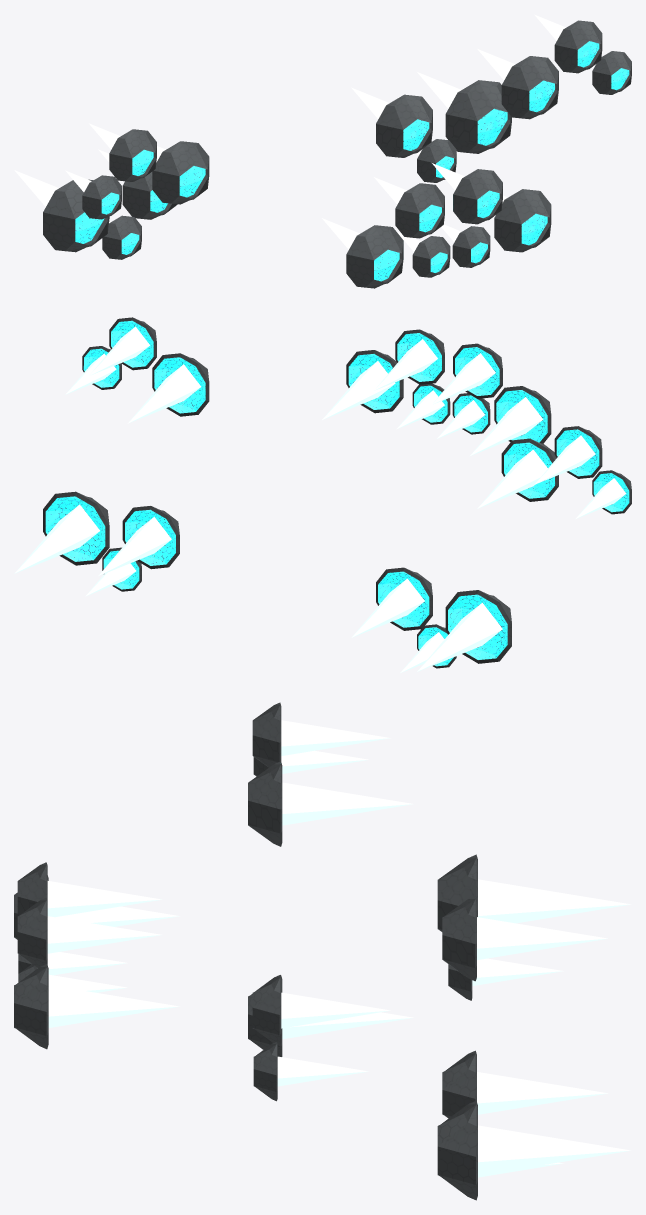
The model's file is ion-engines.fbx.
3 views of the same model, one above another, from view 1: azimuth 30°, elevation 25°; view 2: azimuth 150°, elevation 25°; view 3: azimuth 270°, elevation 25° (orthographic). The views are drawn at different scales.
Parts seen in each view (by area): view 1: EngineTier2_Ion_EngineLargeArm.002, EngineTier2_Ion_EngineLargeArm.005, EngineTier2_Ion_EngineLargeArm.007, EngineTier2_Ion_EngineLargeArm.003, EngineTier2_Ion_EngineLargeArm.006, EngineTier2_Ion_EngineLargeArm.008; view 2: EngineTier2_Ion_EngineLargeArm.002, EngineTier2_Ion_EngineLargeArm.003, EngineTier2_Ion_EngineLargeArm.007, EngineTier2_Ion_EngineLargeArm.005, EngineTier2_Ion_EngineLargeArm.006, EngineTier2_Ion_EngineLargeArm.008; view 3: EngineTier2_Ion_EngineLargeArm.003, EngineTier2_Ion_EngineLargeArm.008, EngineTier2_Ion_EngineLargeArm.006, EngineTier2_Ion_EngineLargeArm.002, EngineTier2_Ion_EngineLargeArm.007, EngineTier2_Ion_EngineLargeArm.005.
Part boxes in pixels (x1,y1,x2,y2): EngineTier2_Ion_EngineLargeArm.002: (43, 80, 511, 259); EngineTier2_Ion_EngineLargeArm.005: (346, 169, 551, 288); EngineTier2_Ion_EngineLargeArm.007: (82, 20, 631, 219); EngineTier2_Ion_EngineLargeArm.003: (14, 72, 461, 223); EngineTier2_Ion_EngineLargeArm.006: (322, 163, 507, 251); EngineTier2_Ion_EngineLargeArm.008: (65, 14, 595, 191); EngineTier2_Ion_EngineLargeArm.002: (43, 491, 511, 668); EngineTier2_Ion_EngineLargeArm.003: (14, 504, 502, 673); EngineTier2_Ion_EngineLargeArm.007: (82, 317, 631, 514); EngineTier2_Ion_EngineLargeArm.005: (346, 329, 551, 443); EngineTier2_Ion_EngineLargeArm.006: (322, 339, 543, 456); EngineTier2_Ion_EngineLargeArm.008: (65, 326, 626, 518); EngineTier2_Ion_EngineLargeArm.003: (472, 879, 631, 1177); EngineTier2_Ion_EngineLargeArm.008: (277, 720, 413, 1086); EngineTier2_Ion_EngineLargeArm.006: (47, 881, 179, 1027); EngineTier2_Ion_EngineLargeArm.002: (437, 854, 477, 1200); EngineTier2_Ion_EngineLargeArm.007: (248, 702, 282, 1101); EngineTier2_Ion_EngineLargeArm.005: (14, 862, 48, 1049).
Bounding box in the file's own units: 1684 × 593 × 1309.
